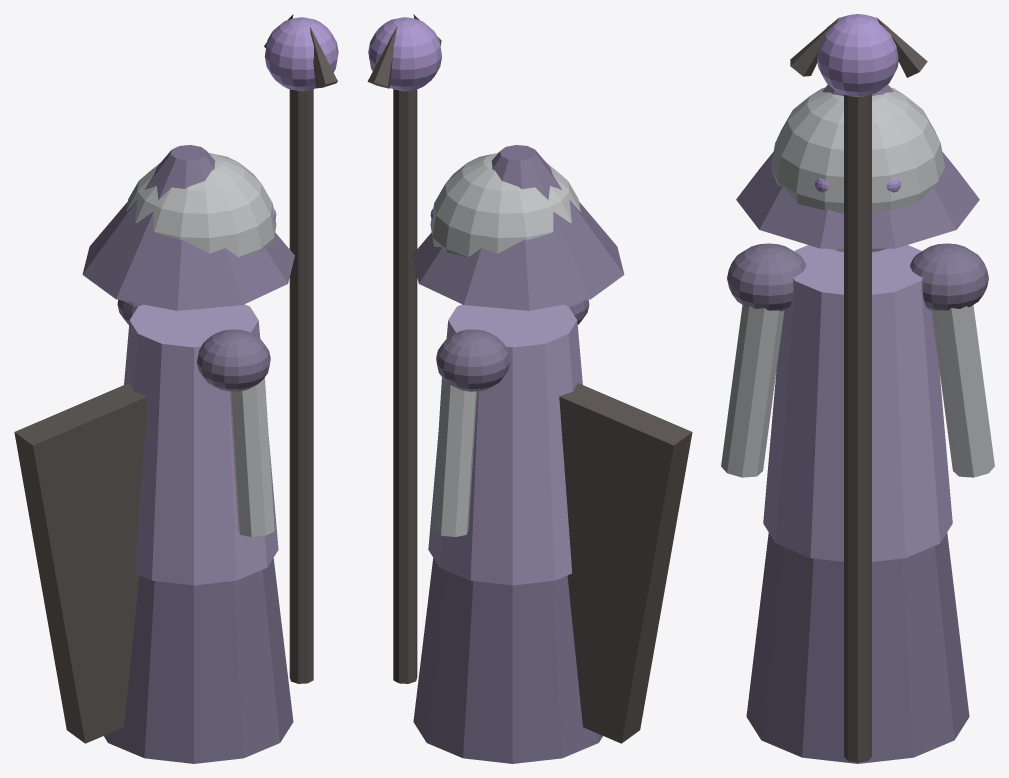
File: hero_vhorren_5.glb
3 renders of one model, left to right at view 1: azimuth 30°, elevation 25°; view 2: azimuth 150°, elevation 25°; view 3: azimuth 270°, elevation 25°, orthographic. The views are drawn at different scales.
Visible parts, largest first — view 1: figurka; view 2: figurka; view 3: figurka.
Part boxes in pixels (box(x1,y1,x2,y2)): figurka: box(14, 14, 338, 763); figurka: box(367, 14, 692, 763); figurka: box(721, 14, 994, 763).
Size of the model in its own units: 0.577 by 1.2 by 0.393.
